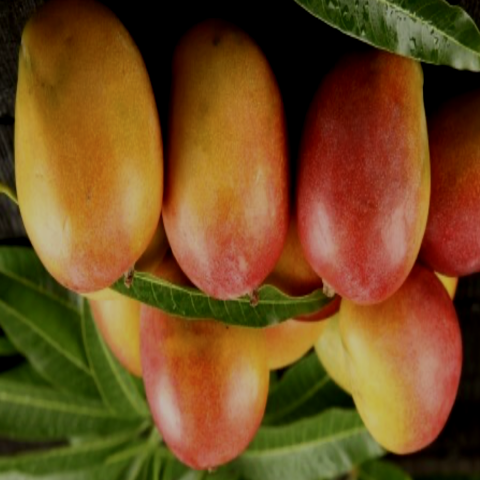mango: (9, 1, 172, 318), (287, 15, 442, 334), (157, 13, 305, 294), (128, 258, 285, 480)
